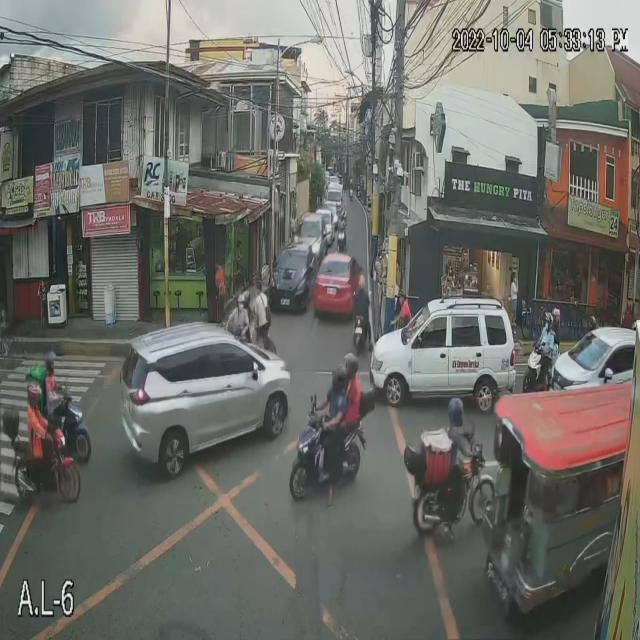Full-Faced: (446, 392, 470, 432), (330, 358, 347, 397), (27, 377, 44, 413), (553, 294, 564, 324)
Half-Faced: (341, 347, 366, 381), (42, 346, 59, 377), (543, 306, 553, 332)
Invalid: (235, 290, 246, 316)
